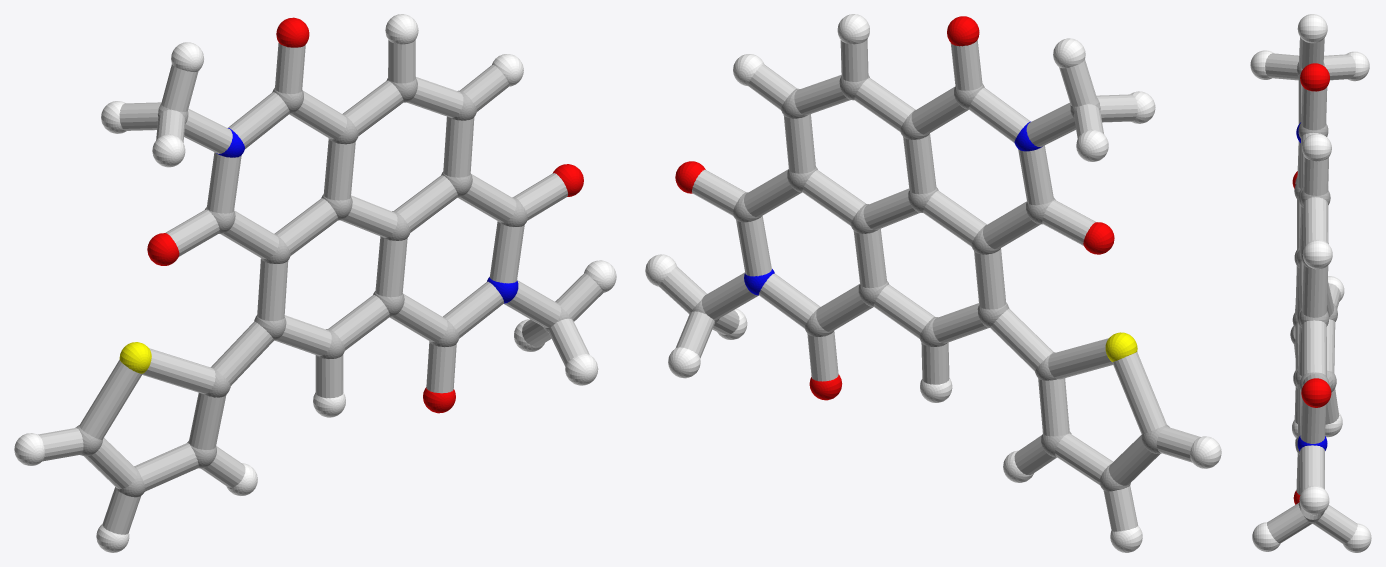
The model's file is Dimethyl_Naphthalene_Dicarboximide_Phi_10_Theta_180_Thiophene.glb.
3 views of the same model, side by side, from view 1: azimuth 30°, elevation 25°; view 2: azimuth 150°, elevation 25°; view 3: azimuth 270°, elevation 25° (orthographic). The views are drawn at different scales.
Visible parts, largest first — view 1: grp14119, grp7241, grp1, grp12309, grp13757, grp11585; view 2: grp14119, grp7241, grp1, grp12309, grp11585, grp13757; view 3: grp14119, grp7241, grp1, grp12309, grp11585.
Boxes of the visible parts, box(x1,y1,x2,y2) form: grp14119: box(38, 40, 603, 534); grp7241: box(14, 14, 616, 552); grp1: box(75, 78, 572, 497); grp12309: box(147, 17, 583, 413); grp13757: box(119, 342, 151, 373); grp11585: box(216, 128, 518, 303); grp14119: box(659, 39, 1200, 531); grp7241: box(645, 14, 1221, 552); grp1: box(691, 75, 1169, 491); grp12309: box(675, 16, 1114, 400); grp11585: box(744, 121, 1042, 295); grp13757: box(1105, 332, 1137, 361); grp14119: box(1265, 37, 1357, 544); grp7241: box(1250, 14, 1371, 552); grp1: box(1290, 62, 1337, 523); grp12309: box(1292, 63, 1331, 504); grp11585: box(1296, 122, 1327, 450).
Size of the model in its own units: 12.32 by 9.93 by 2.42.
